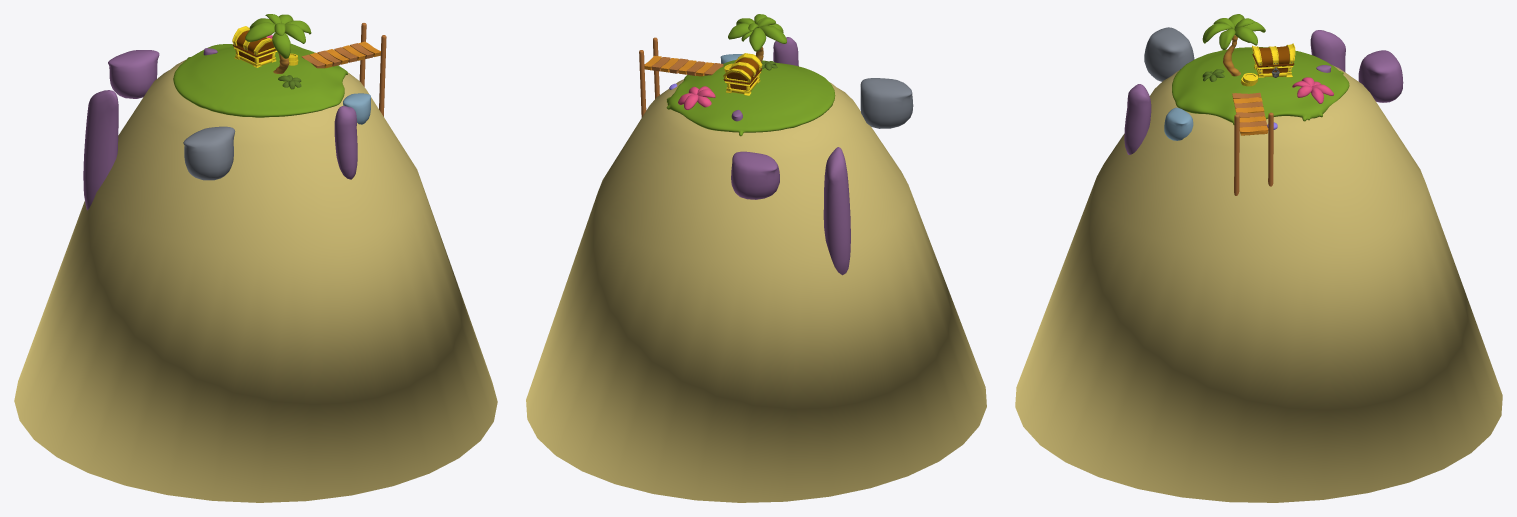
File: isolaPiccola.fbx
3 renders of one model, left to right at view 1: azimuth 30°, elevation 25°; view 2: azimuth 150°, elevation 25°; view 3: azimuth 270°, elevation 25°, orthographic. The views are drawn at different scales.
Visible parts, largest first — view 1: isola piccola; view 2: isola piccola; view 3: isola piccola.
Boxes of the visible parts, x1,y1,x2,y2 form: isola piccola: (14, 14, 497, 502); isola piccola: (526, 14, 986, 502); isola piccola: (1015, 14, 1502, 502).
Size of the model in its own units: 6397 by 5761 by 6551.
